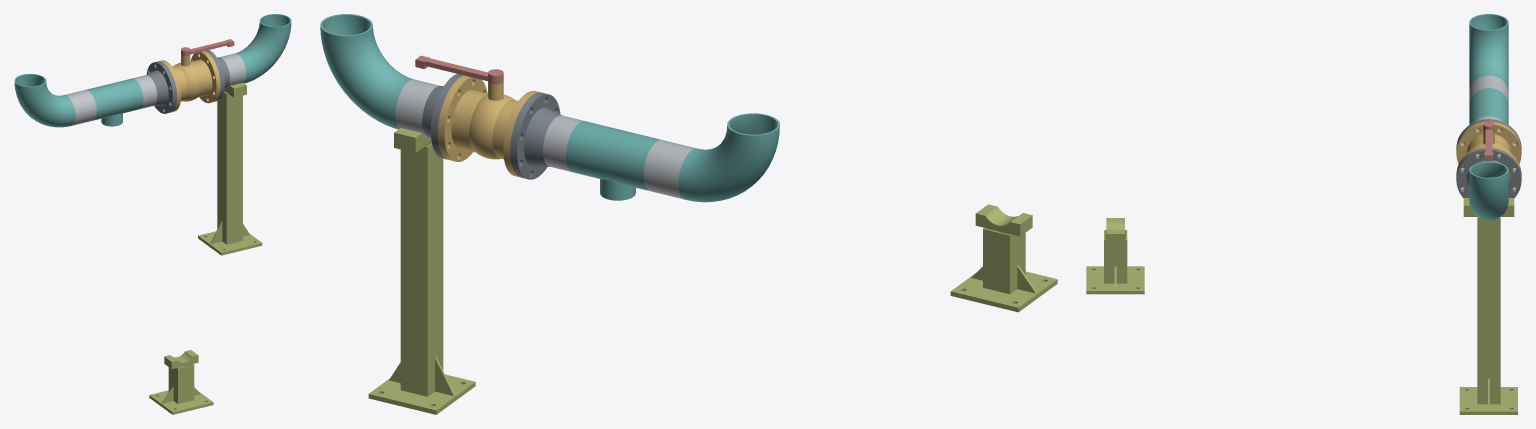
The model's file is step_72.glb.
3 views of the same model, side by side, from view 1: azimuth 30°, elevation 25°; view 2: azimuth 150°, elevation 25°; view 3: azimuth 270°, elevation 25° (orthographic). The views are drawn at different scales.
Parts seen in each view (by area): view 1: part__pipe support SP-101, tall, part__6" elbow bottom left, part__pipe support SP-101, short, part__6" ball valve body BV-101, part__6" elbow bottom right, part__6" x 4" reducing tee, part__6" flange, ball valve inlet, part__6" pipe, tee to the left bend, 128 long, part__6" pipe, ball valve to the right bend, 99 long, part__6" pipe, tee to the ball valve, 85 long, part__6" flange, ball valve outlet, part__6" ball valve lever; view 2: part__pipe support SP-101, tall, part__6" elbow bottom left, part__pipe support SP-101, short, part__6" ball valve body BV-101, part__6" elbow bottom right, part__6" x 4" reducing tee, part__6" flange, ball valve inlet, part__6" pipe, tee to the left bend, 128 long, part__6" pipe, ball valve to the right bend, 99 long, part__6" pipe, tee to the ball valve, 85 long, part__6" flange, ball valve outlet, part__6" ball valve lever; view 3: part__pipe support SP-101, tall, part__pipe support SP-101, short, part__6" elbow bottom left, part__6" elbow bottom right, part__6" ball valve body BV-101, part__6" flange, ball valve outlet, part__6" x 4" reducing tee, part__6" pipe, tee to the left bend, 128 long.
Boxes of the visible parts, x1,y1,x2,y2 form: part__pipe support SP-101, tall: (198, 82, 262, 255); part__6" elbow bottom left: (14, 74, 75, 127); part__pipe support SP-101, short: (149, 350, 213, 414); part__6" ball valve body BV-101: (159, 51, 220, 112); part__6" elbow bottom right: (236, 14, 291, 83); part__6" x 4" reducing tee: (86, 78, 143, 126); part__6" flange, ball valve inlet: (146, 61, 176, 113); part__6" pipe, tee to the left bend, 128 long: (65, 90, 96, 125); part__6" pipe, ball valve to the right bend, 99 long: (220, 53, 246, 87); part__6" pipe, tee to the ball valve, 85 long: (132, 75, 157, 108); part__6" flange, ball valve outlet: (205, 50, 229, 101); part__6" ball valve lever: (181, 39, 234, 56); part__pipe support SP-101, tall: (368, 128, 475, 414); part__6" elbow bottom left: (678, 113, 779, 202); part__pipe support SP-101, short: (950, 204, 1057, 312); part__6" ball valve body BV-101: (437, 75, 540, 177); part__6" elbow bottom right: (320, 14, 413, 129); part__6" x 4" reducing tee: (566, 121, 661, 200); part__6" flange, ball valve inlet: (510, 92, 562, 179); part__6" pipe, tee to the left bend, 128 long: (643, 140, 695, 199); part__6" pipe, ball valve to the right bend, 99 long: (395, 79, 440, 136); part__6" pipe, tee to the ball valve, 85 long: (543, 115, 583, 171); part__6" flange, ball valve outlet: (422, 74, 463, 159); part__6" ball valve lever: (415, 55, 503, 84); part__pipe support SP-101, tall: (1459, 198, 1517, 414); part__pipe support SP-101, short: (1086, 218, 1144, 294); part__6" elbow bottom left: (1469, 14, 1508, 90); part__6" elbow bottom right: (1469, 162, 1508, 220); part__6" ball valve body BV-101: (1456, 121, 1521, 189); part__6" flange, ball valve outlet: (1456, 148, 1521, 197); part__6" x 4" reducing tee: (1469, 88, 1508, 124); part__6" pipe, tee to the left bend, 128 long: (1469, 75, 1508, 103).
Size of the model in its own units: 1709 by 1229 by 1865.
